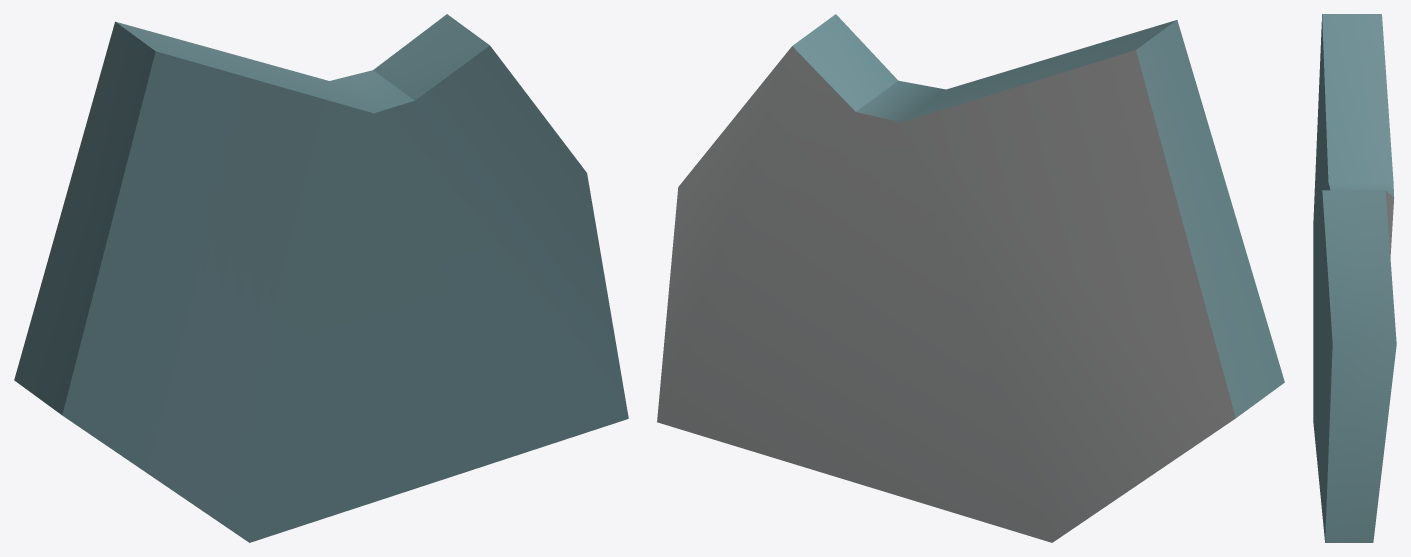
The model's file is IceDrift.007.glb.
3 renders of one model, left to right at view 1: azimuth 30°, elevation 25°; view 2: azimuth 150°, elevation 25°; view 3: azimuth 270°, elevation 25°, orthographic. The views are drawn at different scales.
Parts seen in each view (by area): view 1: IceDrift.007; view 2: IceDrift.007; view 3: IceDrift.007.
Part boxes in pixels (x1=…): IceDrift.007: x1=14, y1=14, x2=628, y2=542; IceDrift.007: x1=657, y1=14, x2=1284, y2=542; IceDrift.007: x1=1313, y1=14, x2=1396, y2=542.
Size of the model in its own units: 262 by 222 by 44.64.
